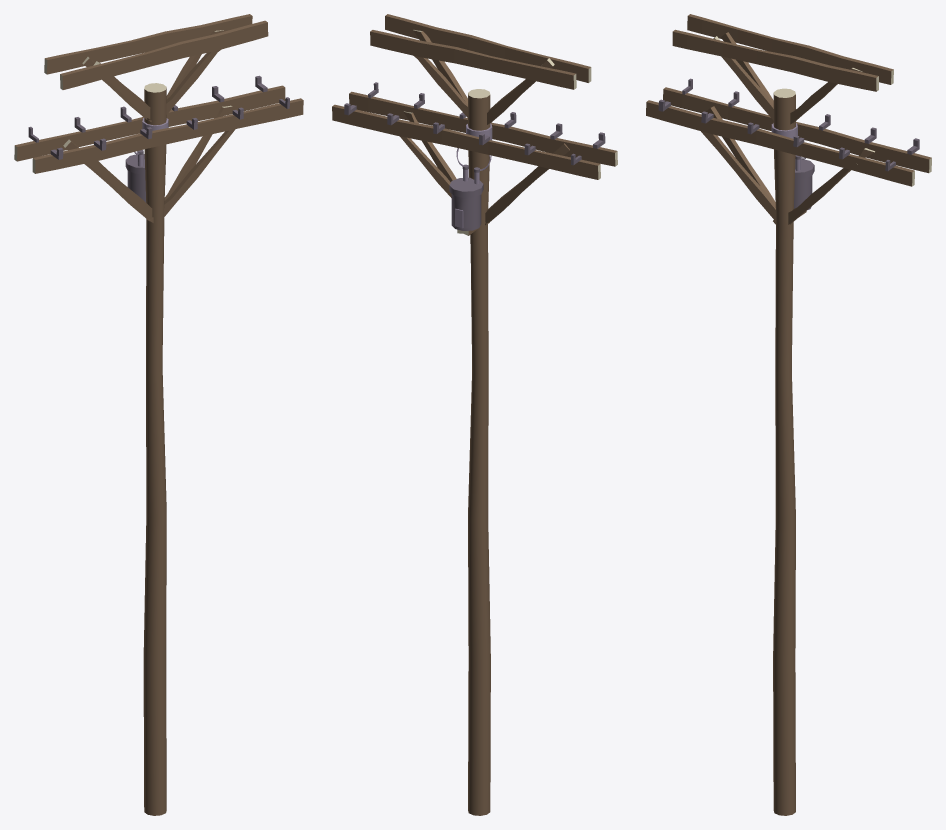
File: P_ElectricPole_Base_LD.fbx
3 renders of one model, left to right at view 1: azimuth 30°, elevation 25°; view 2: azimuth 150°, elevation 25°; view 3: azimuth 330°, elevation 25°, orthographic.
Parts seen in each view (by area): view 1: P_ElectricPole_Base; view 2: P_ElectricPole_Base; view 3: P_ElectricPole_Base.
Boxes of the visible parts, x1,y1,x2,y2 form: P_ElectricPole_Base: (14,14,303,815); P_ElectricPole_Base: (332,14,617,815); P_ElectricPole_Base: (646,14,931,815).
Bounding box in the file's own units: 689 × 1891 × 161.
1 material, 1 textured.
